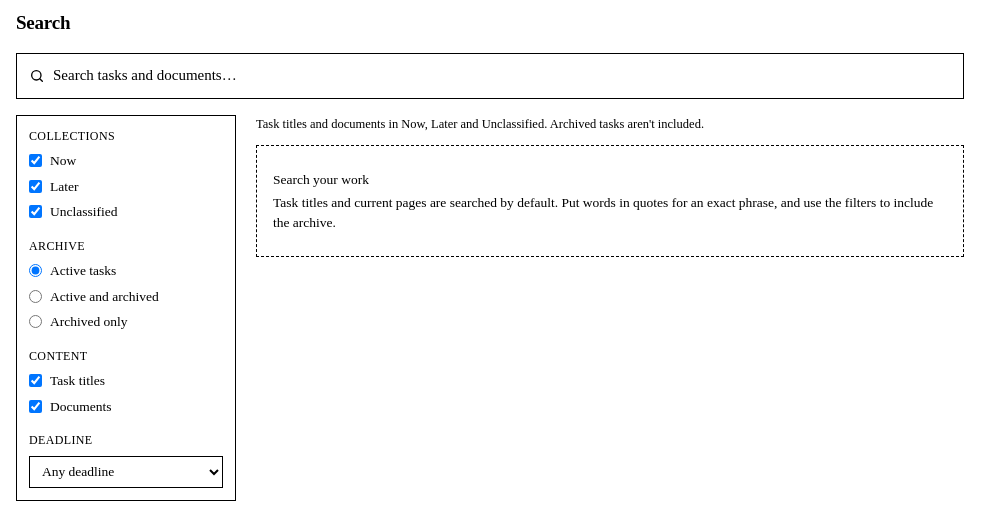
Test: the full search screen › expands one task to every match and collapses again
In the search field: (502, 76) [53, 54, 951, 98], type "portfolio"
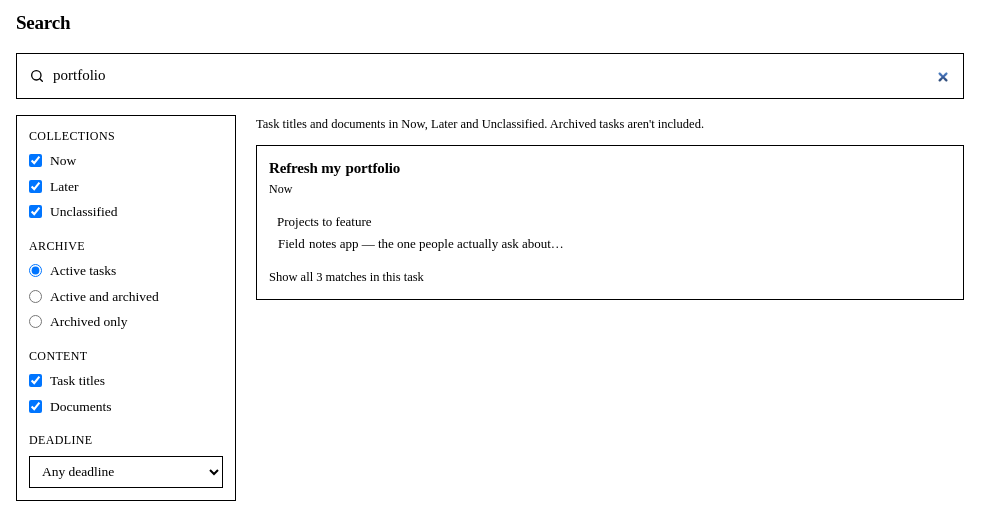
Click the button "Show all 3 matches in this task": (346, 277) [269, 268, 424, 286]
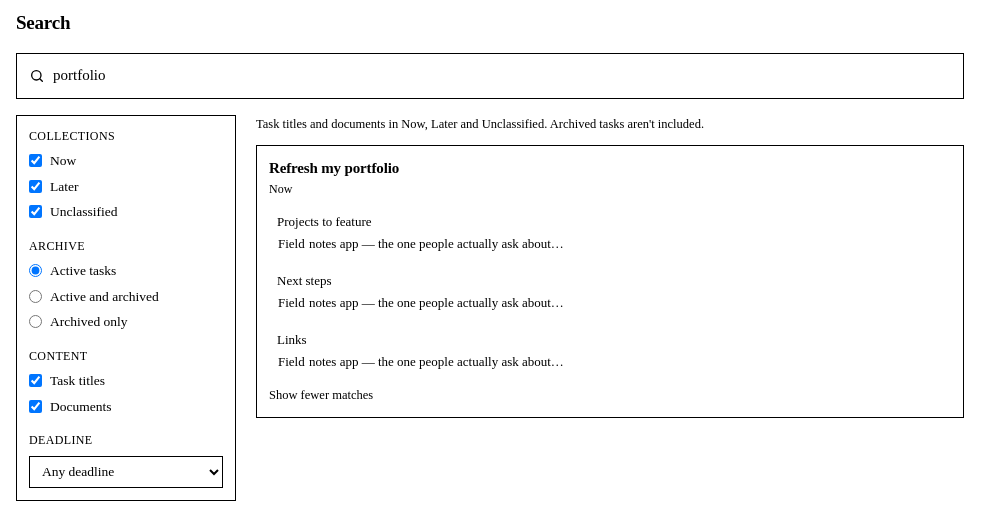
expect the text "Next steps" is shown: met, box [277, 273, 332, 288]
Click the button "Show fewer matches": (321, 395) [269, 386, 373, 404]
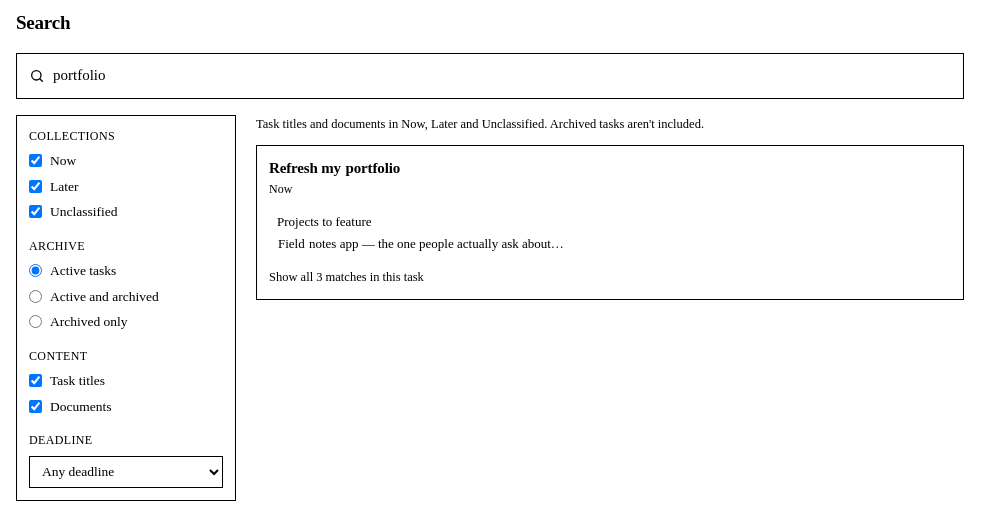
expect the link "Next steps" is gone: met
